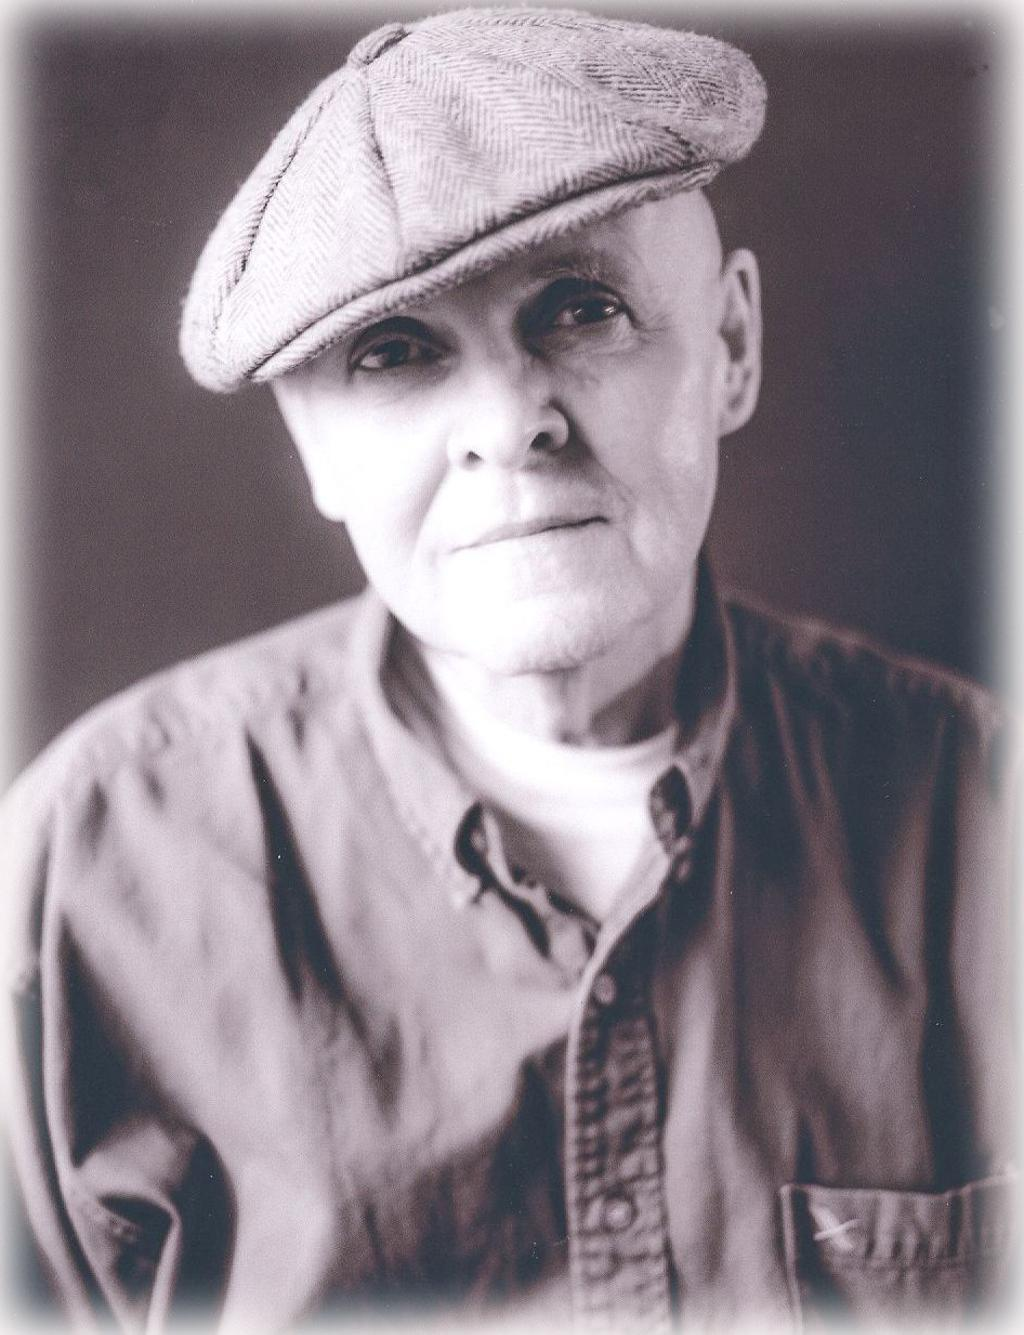face: (308, 152, 699, 634)
